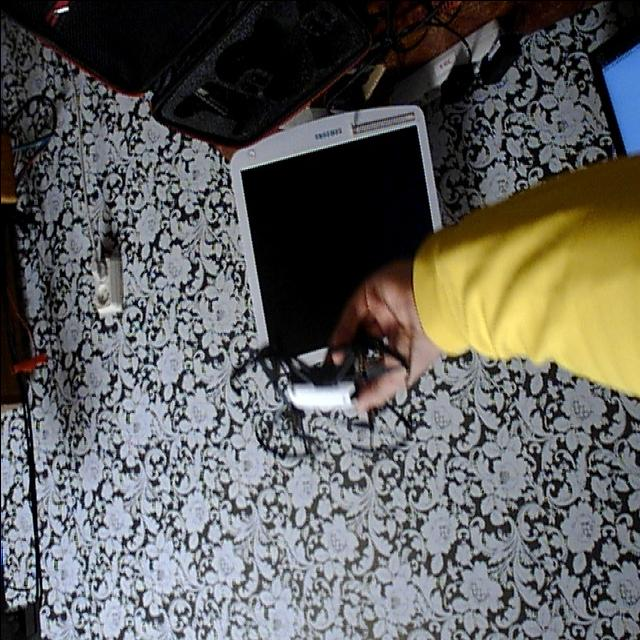drone: (219, 318, 421, 474)
